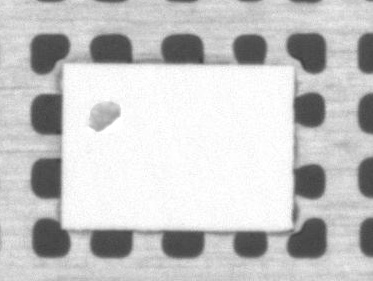DIE_INK: (110, 72, 166, 102)
